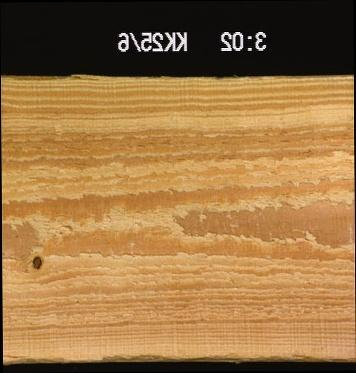dry_knot: (30, 252, 45, 271)
wave: (1, 343, 311, 365)
